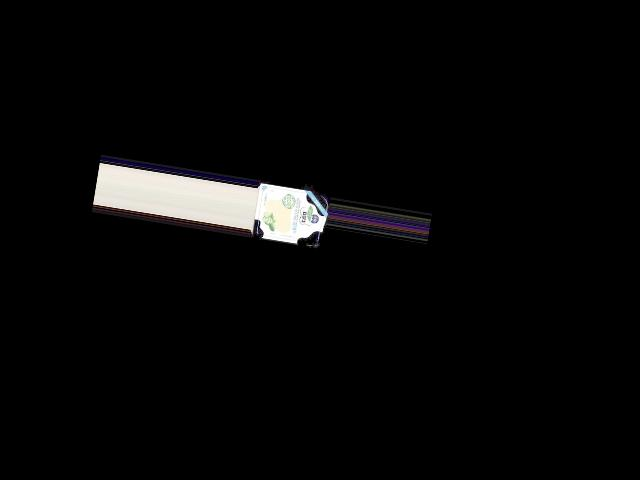cheese: (248, 179, 330, 250)
